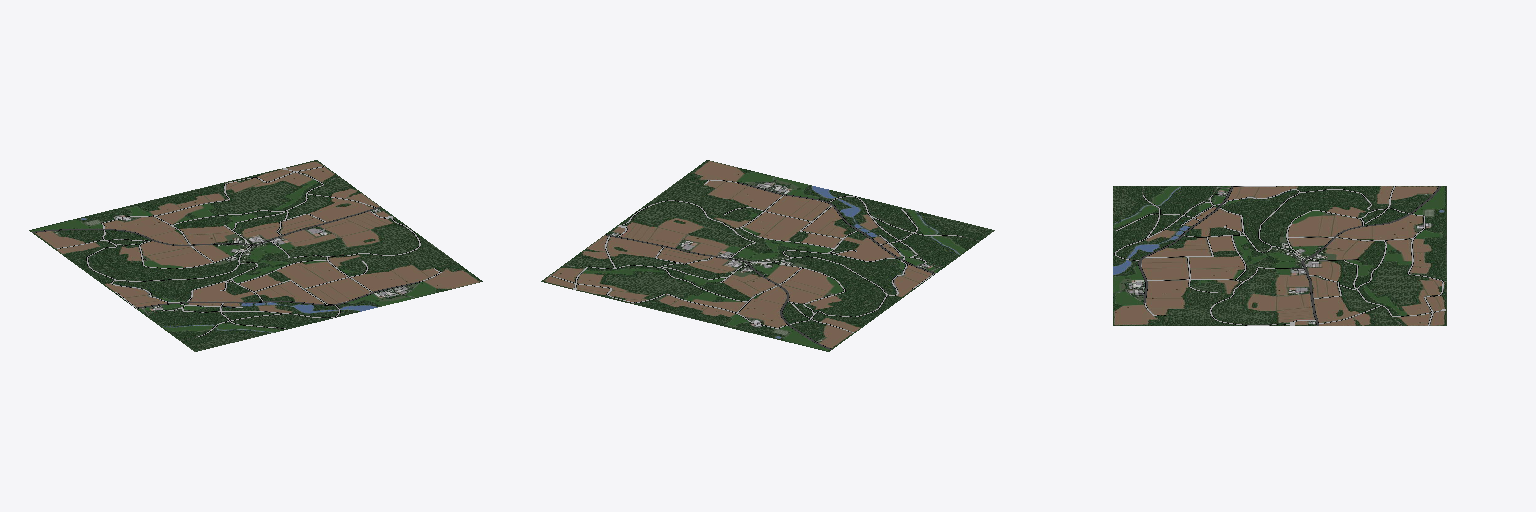
3 views of the same model, side by side, from view 1: azimuth 30°, elevation 25°; view 2: azimuth 150°, elevation 25°; view 3: azimuth 270°, elevation 25° (orthographic).
Parts seen in each view (by area): view 1: Plane001; view 2: Plane001; view 3: Plane001.
Boxes of the visible parts, <box> form: Plane001: <box>29,160,482,351</box>; Plane001: <box>541,160,994,351</box>; Plane001: <box>1113,186,1446,325</box>.
Size of the model in its own units: 930 by 0 by 930.
Materials: 4 (4 with a texture image).